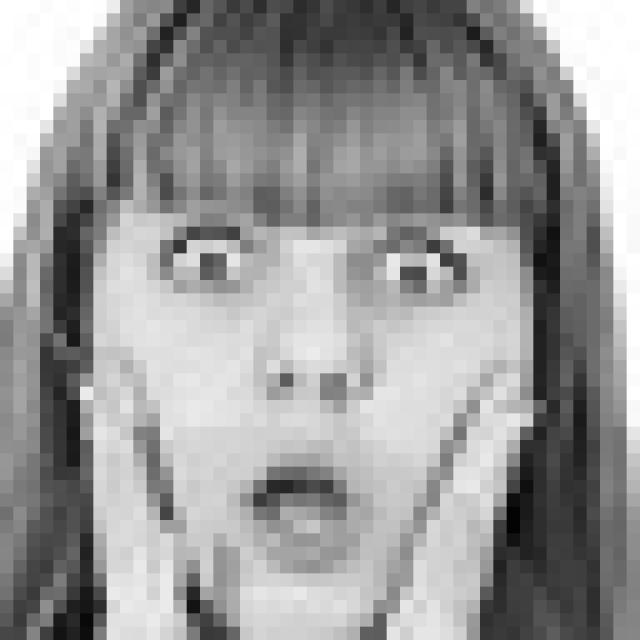surprise: (150, 220, 486, 574)
